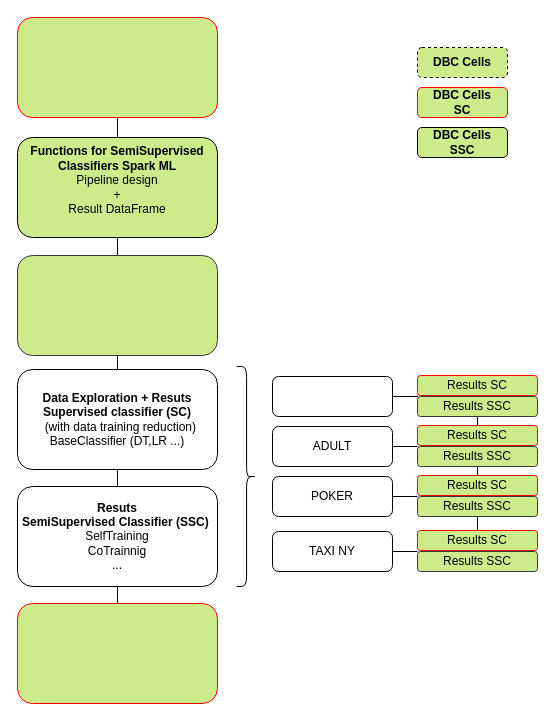
The diagram is 555 pixels wide and 721 high, and some of its shapes have lost their labels. The box of each missing label's shape, as (x1, y1, x2, y2) in pixels:
BCW: (272, 376, 392, 416)
Functions for Supervised Classifiers Spark ML Pipeline design + Result DataFrame: (16, 16, 218, 118)
SemiSupervised Classes Definition: (16, 254, 218, 356)
Tests (no part of the final code) Different cells: (16, 602, 218, 704)
